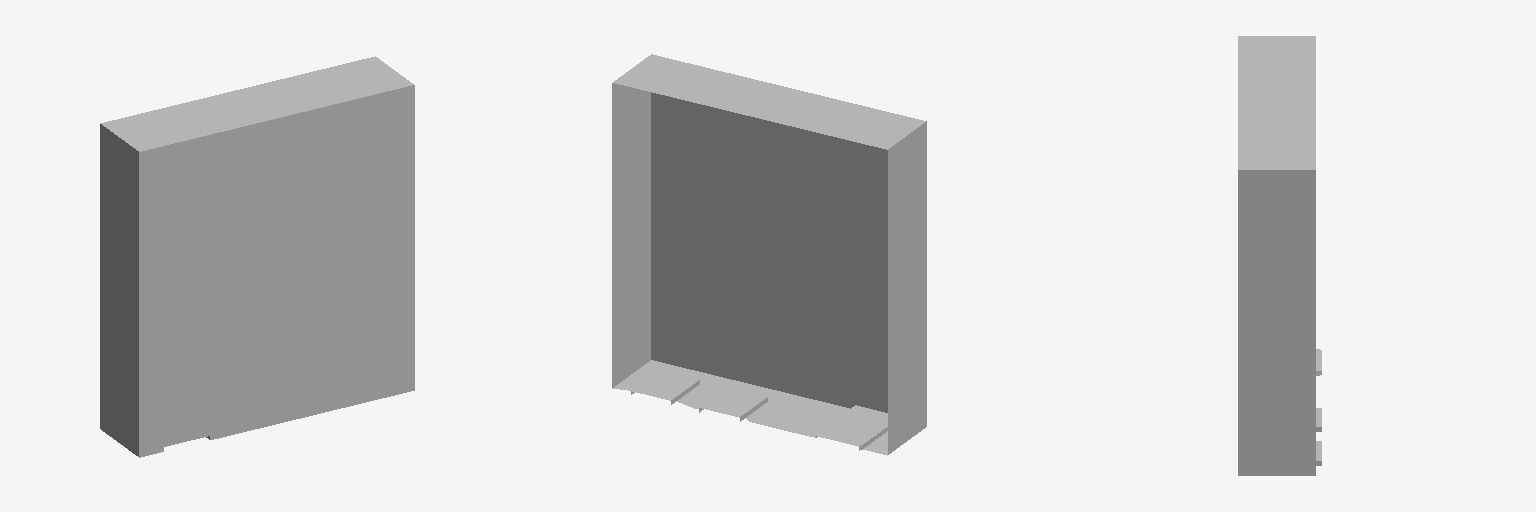
Rendered from Dom Estartki jedna trzecia.obj.
3 views of the same model, side by side, from view 1: azimuth 30°, elevation 25°; view 2: azimuth 150°, elevation 25°; view 3: azimuth 270°, elevation 25° (orthographic).
Parts seen in each view (by area): view 1: Cube_Cube.001; view 2: Cube_Cube.001; view 3: Cube_Cube.001.
Part boxes in pixels (left/top/right/bottom): Cube_Cube.001: left=100, top=56, right=414, bottom=457; Cube_Cube.001: left=612, top=54, right=926, bottom=455; Cube_Cube.001: left=1238, top=36, right=1321, bottom=475.
Bounding box in the file's own units: 0.0344 × 0.0366 × 0.0091.